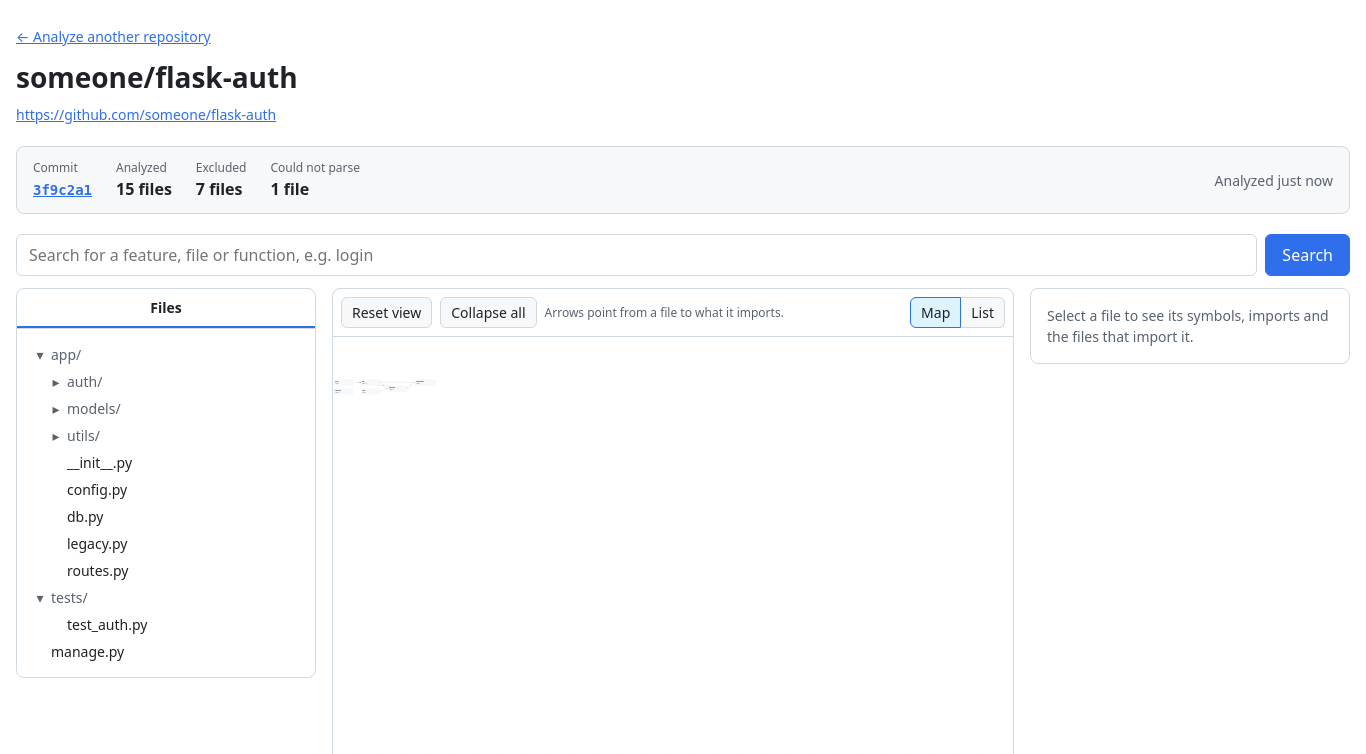
Scenario: AnalysisPage search › shows the reading list in its own tab
In the search field named "Search this repository": (637, 255) [16,234,1257,276], type "login"
Then press Enter
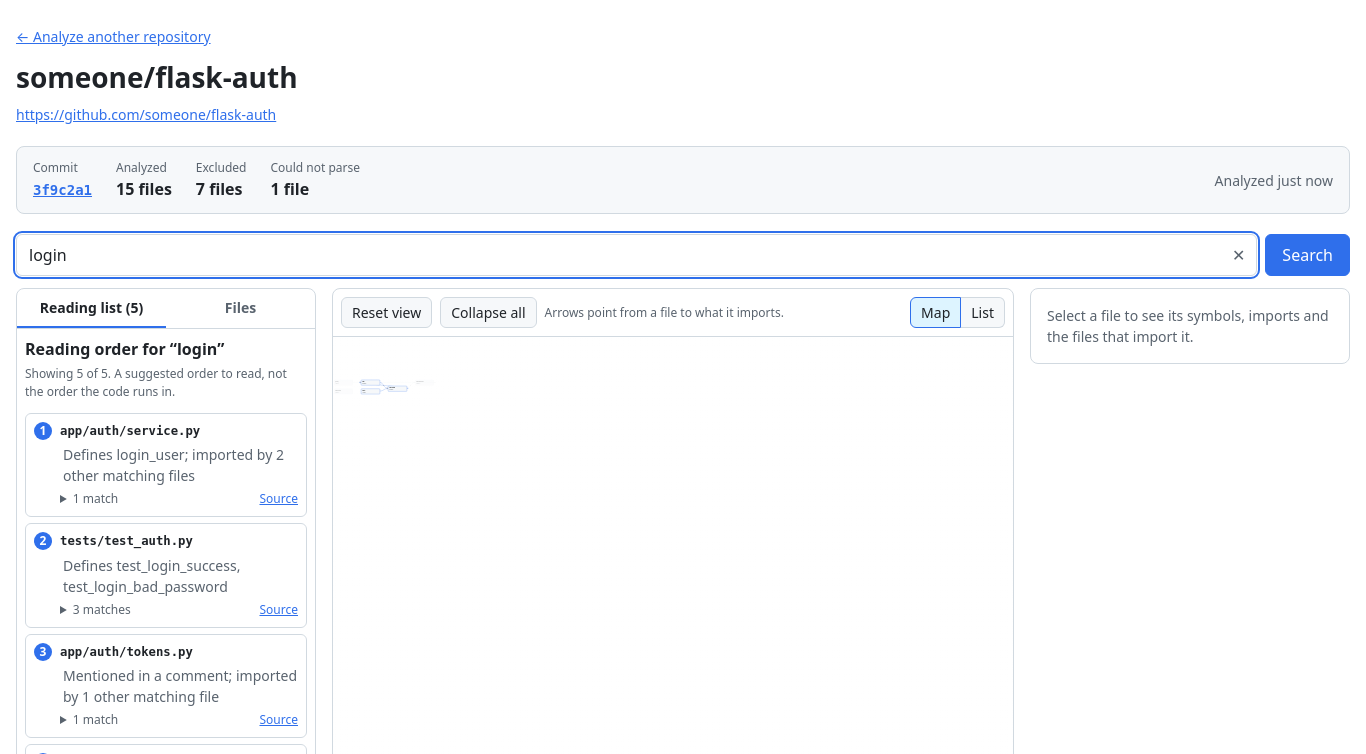
Result: the heading "Reading order for “login”" is shown at [25,338,224,360]
